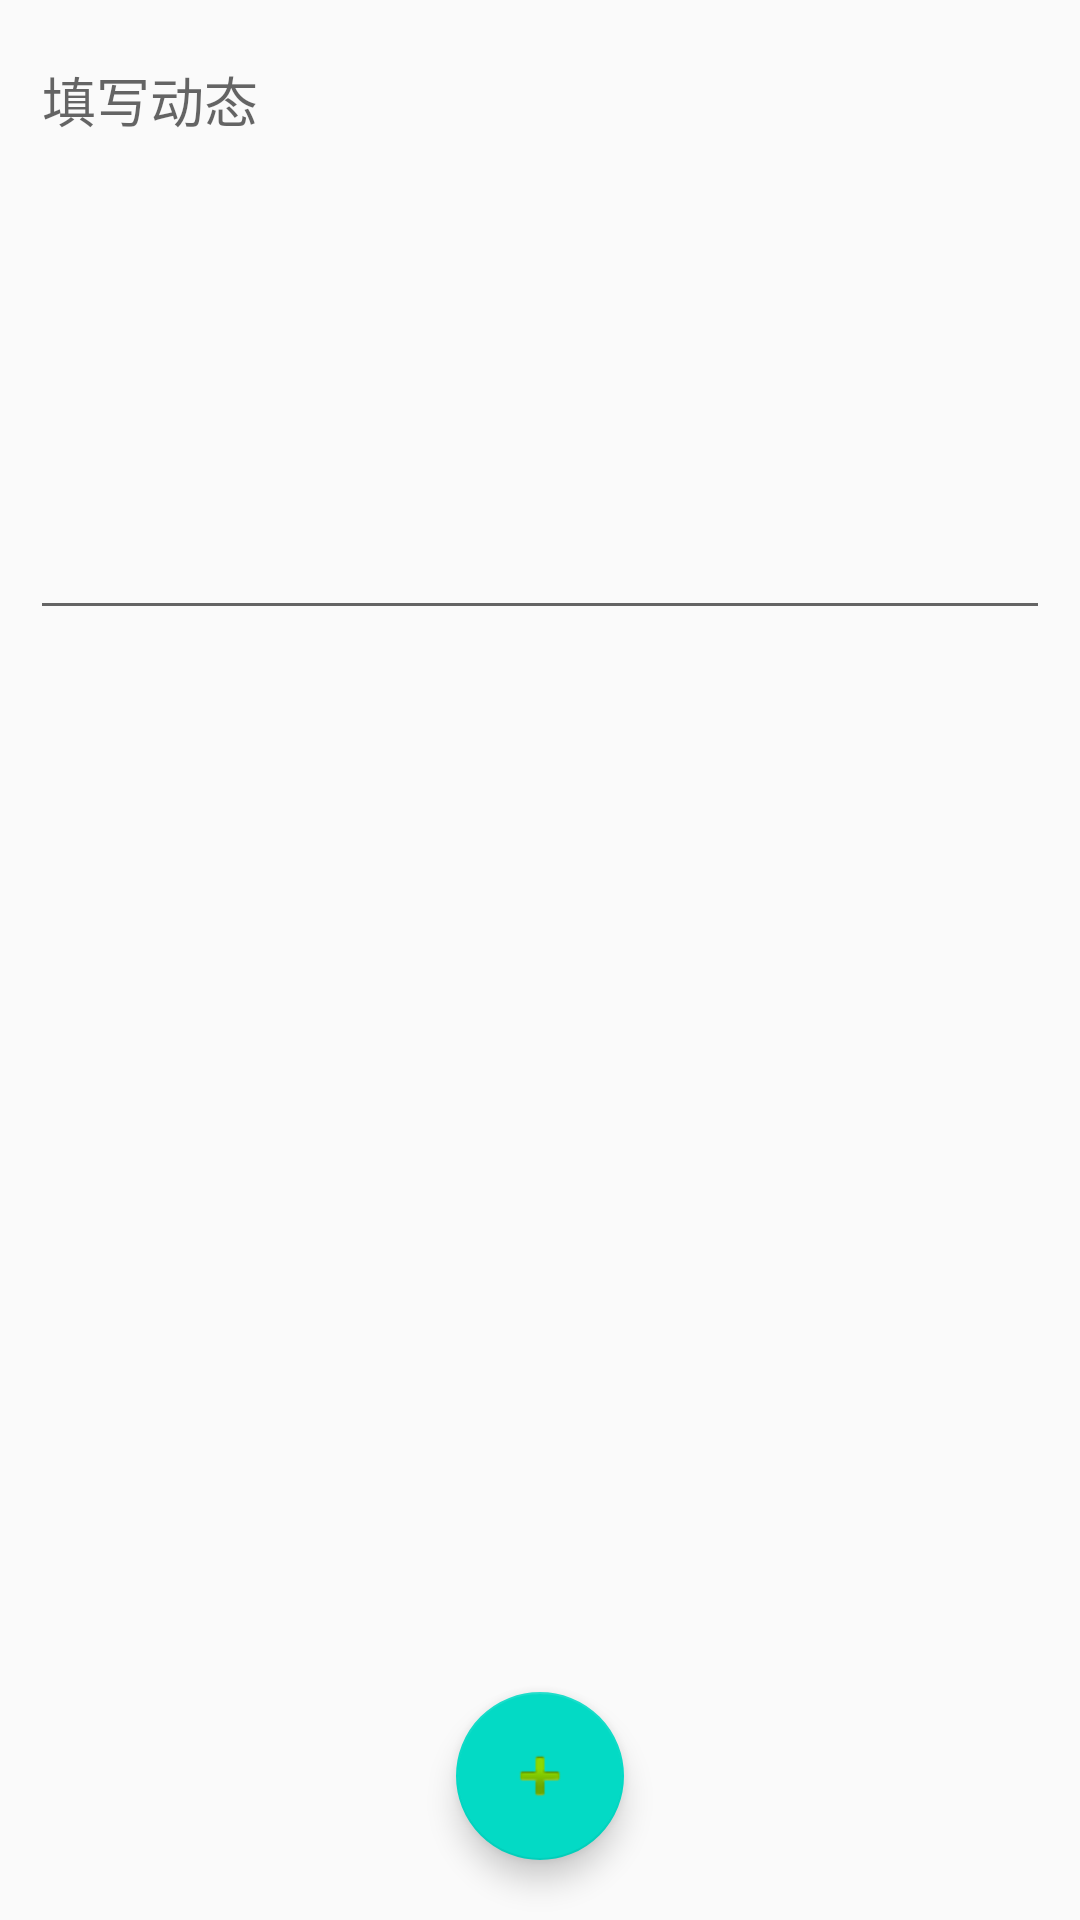

Named icons in this screenshot (1080×1920) and their bounding boxes, (x1,y1,x2,y2):
add: (456,1692,624,1860)
